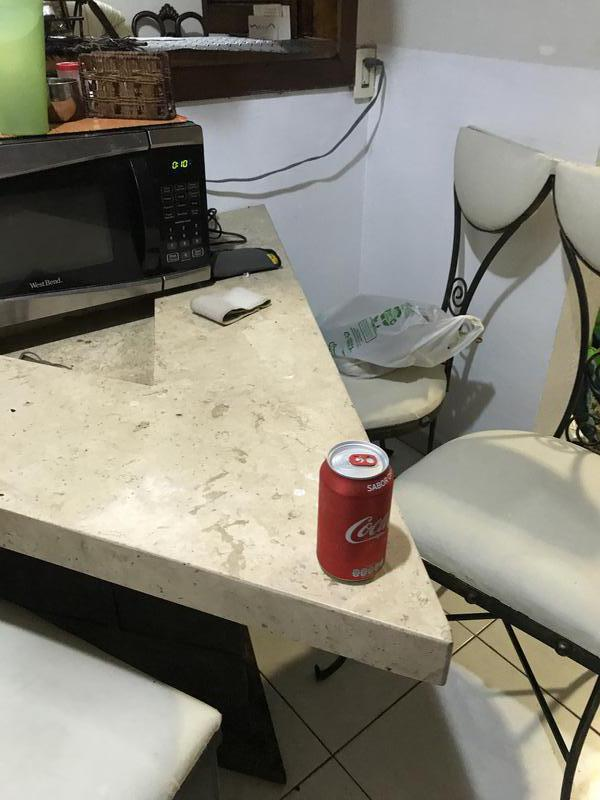coca_cola: (316, 440, 394, 584)
